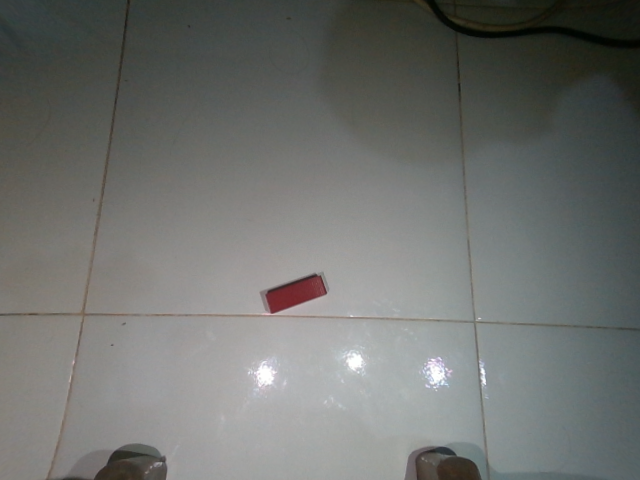Balok-Merah-Marun: (257, 270, 330, 313)
